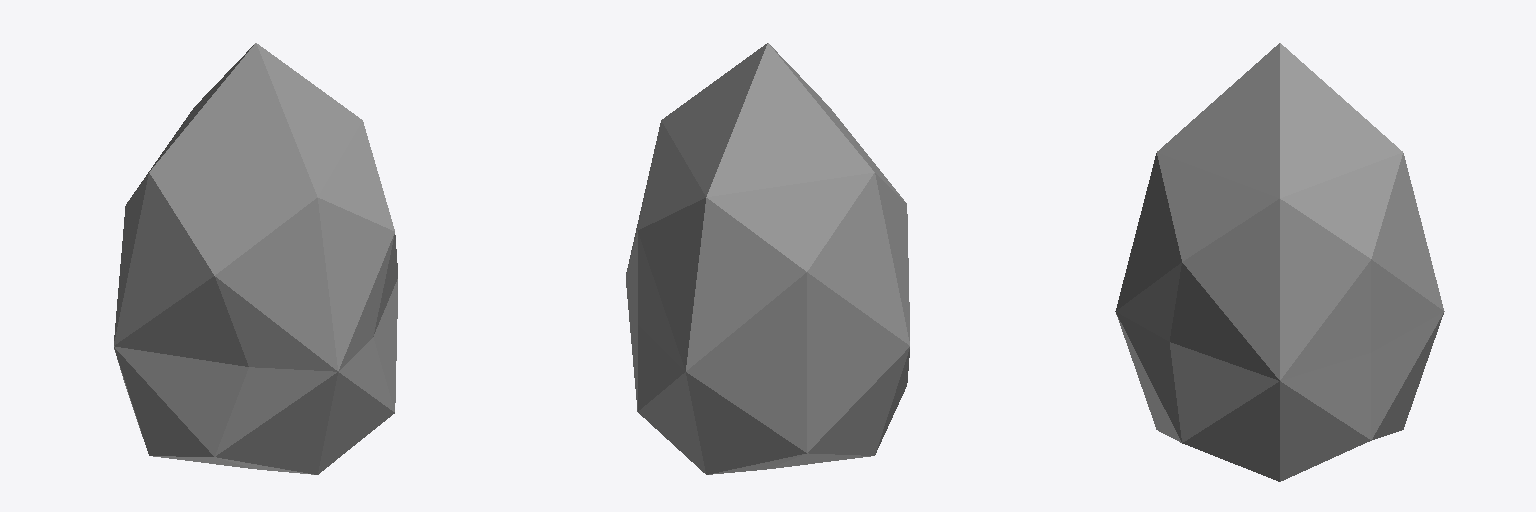
The model's file is flicker_habitat_crystal.obj.
The picture shows the model from 3 angles: view 1: azimuth 30°, elevation 25°; view 2: azimuth 150°, elevation 25°; view 3: azimuth 270°, elevation 25°; orthographic projection.
Visible parts, largest first — view 1: crystal; view 2: crystal; view 3: crystal.
Part boxes in pixels (left/top/right/bottom): crystal: left=114, top=43, right=397, bottom=474; crystal: left=626, top=43, right=909, bottom=474; crystal: left=1115, top=43, right=1444, bottom=481.
Bounding box in the file's own units: 0.51 × 0.73 × 0.51.